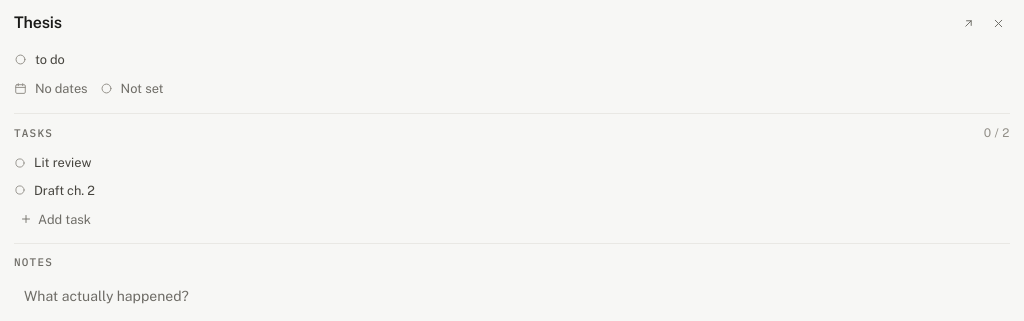
Test: StepPanel focus needed › tags every step under a container in one gesture
The image size is (1024, 321).
Click the button with aria-label "Focus needed".
click(132, 89)  # box [94,74,170,103]
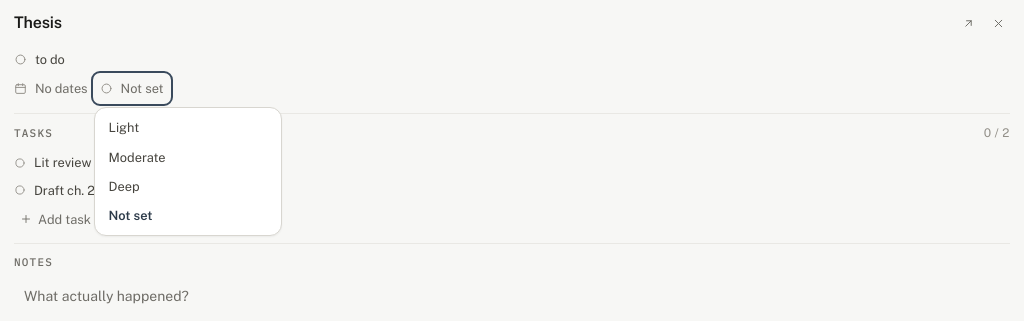
Click the menu item "Deep".
click(188, 186)  # box [100,172,276,201]
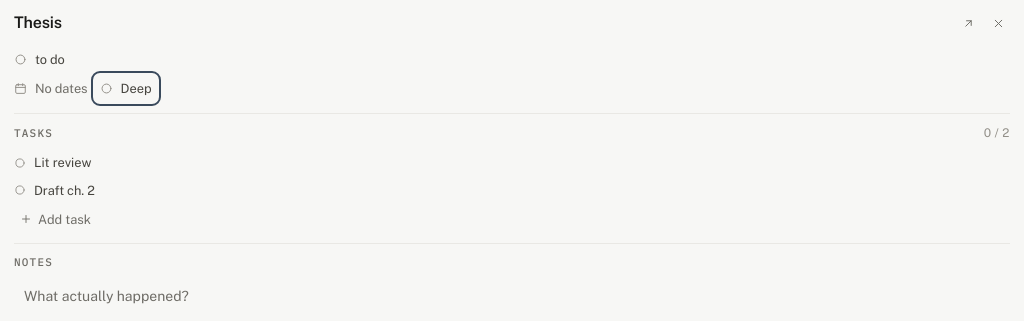
Now the button with aria-label "Focus needed: Deep" is shown, box [94,74,158,103]
